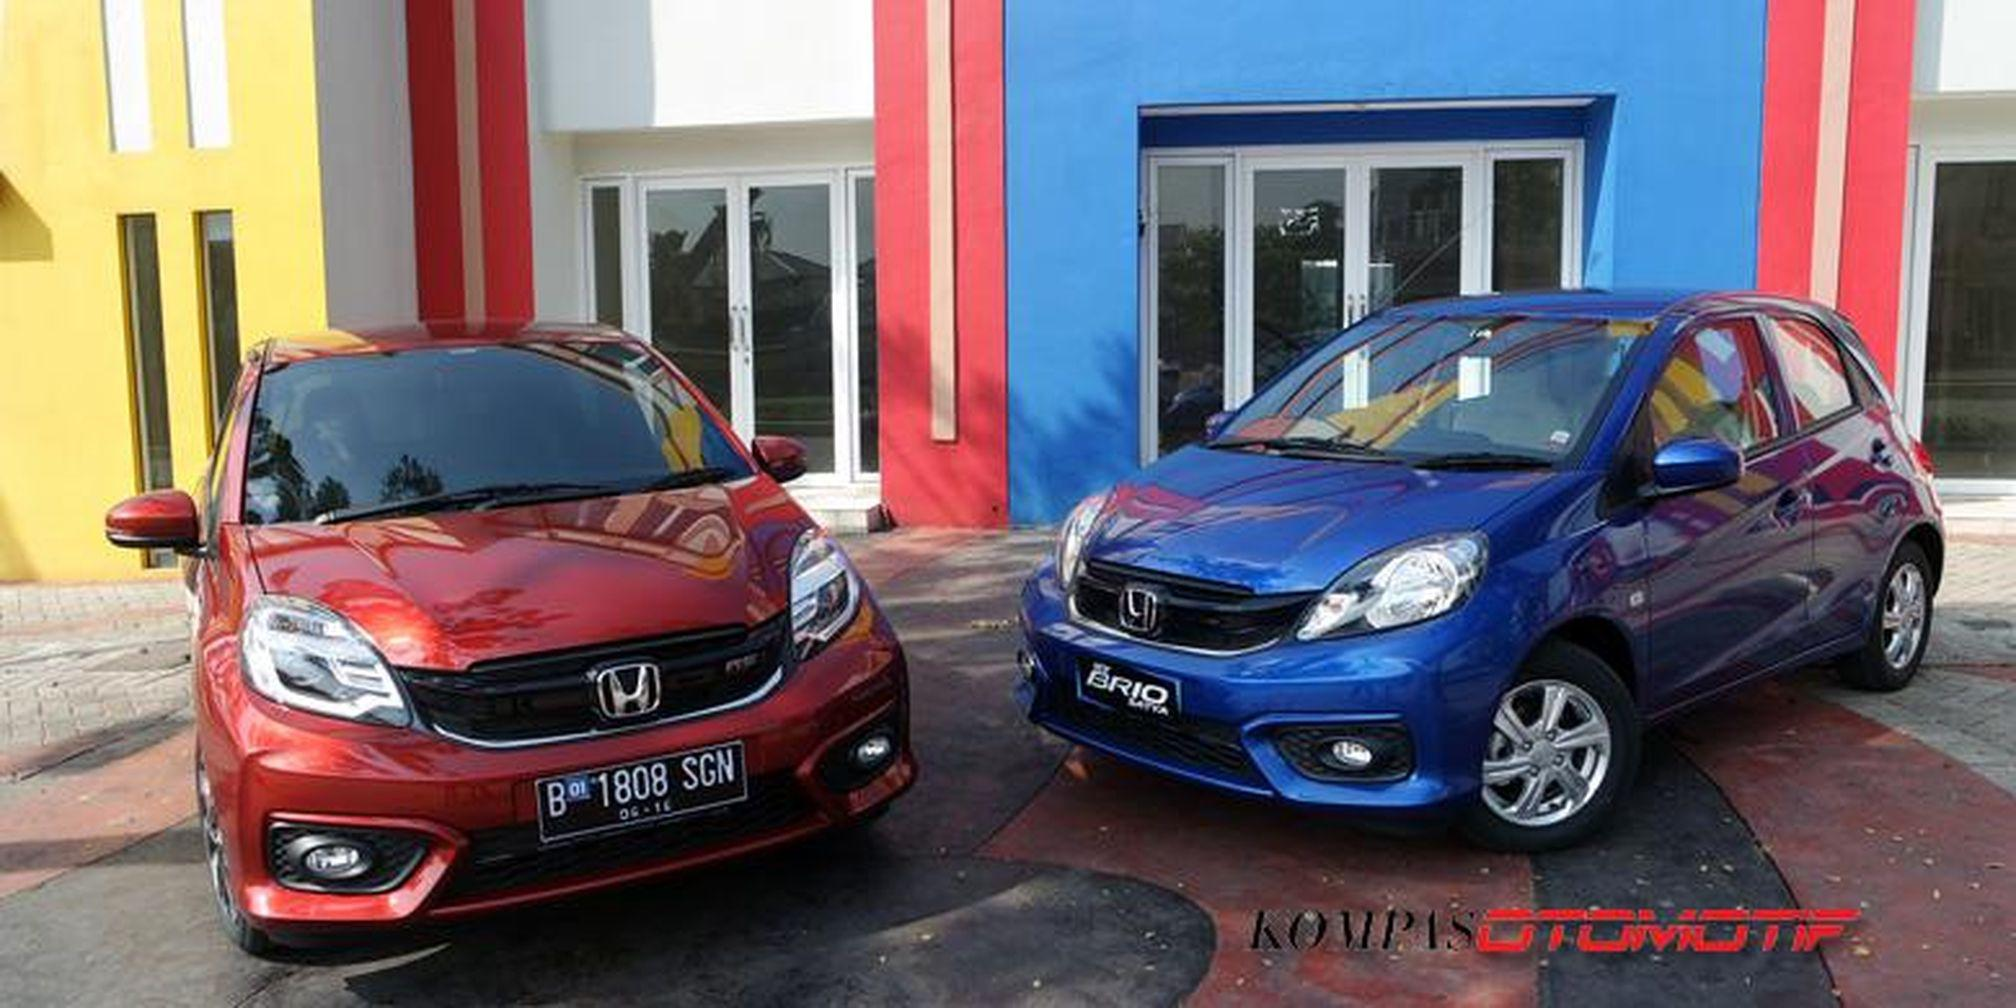plate: (531, 739, 747, 845)
